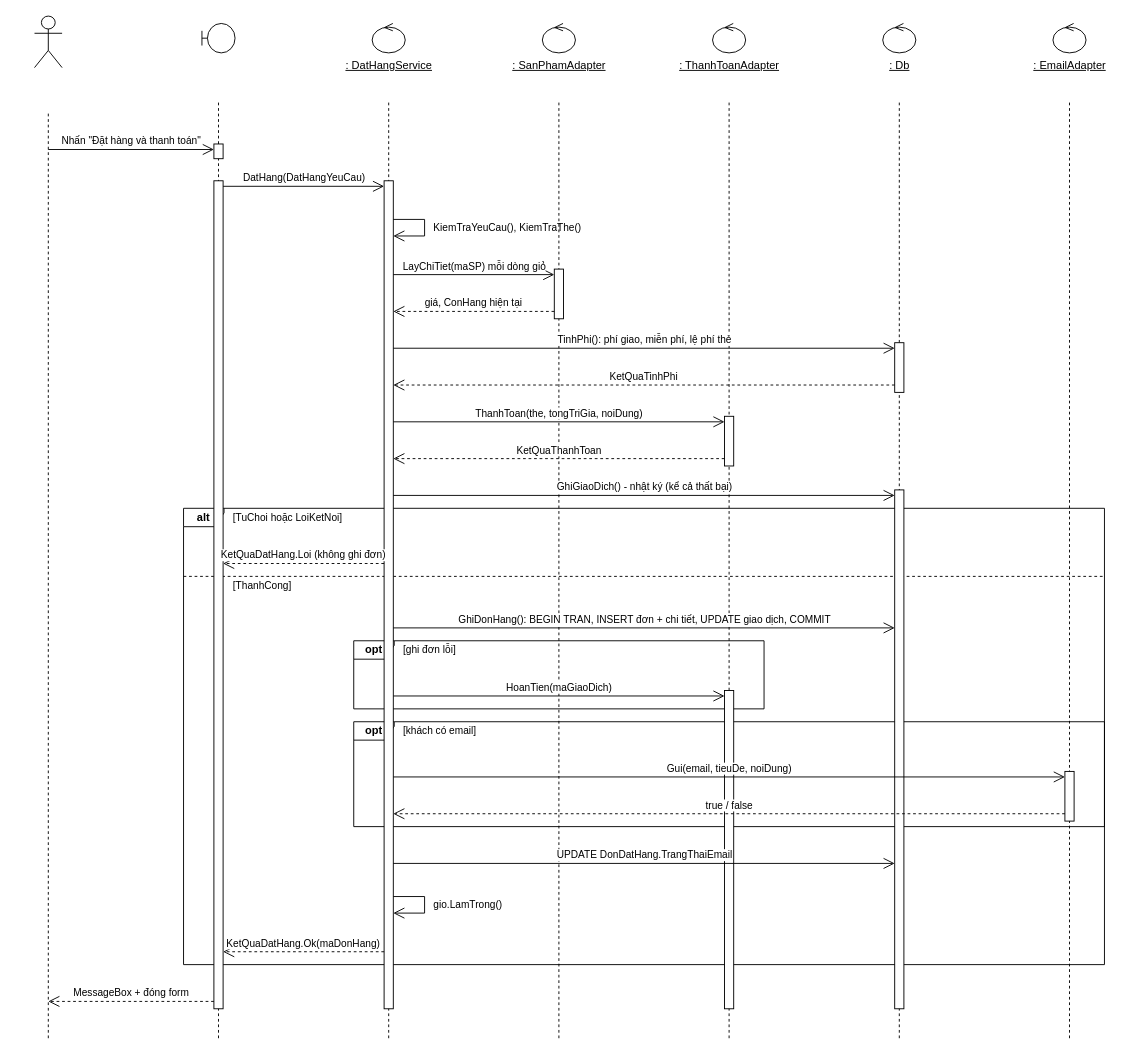
This 1121x1055 diagram has some shape labels left out. Here are the shapes that lost their labels. From the top down, the centre of each, then its label:
At (48,41): ": Khách hàng".
At (218,38): ": FrmDatHang".
